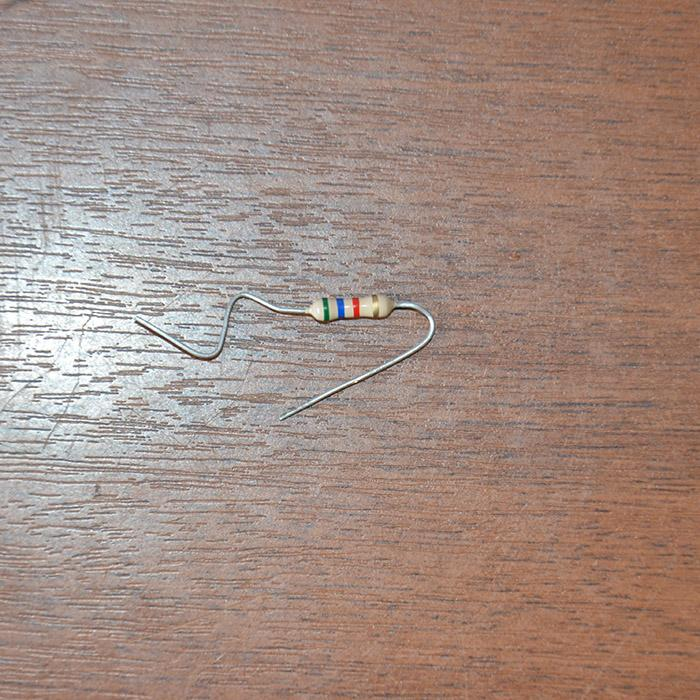resistor: (307, 292, 396, 322)
